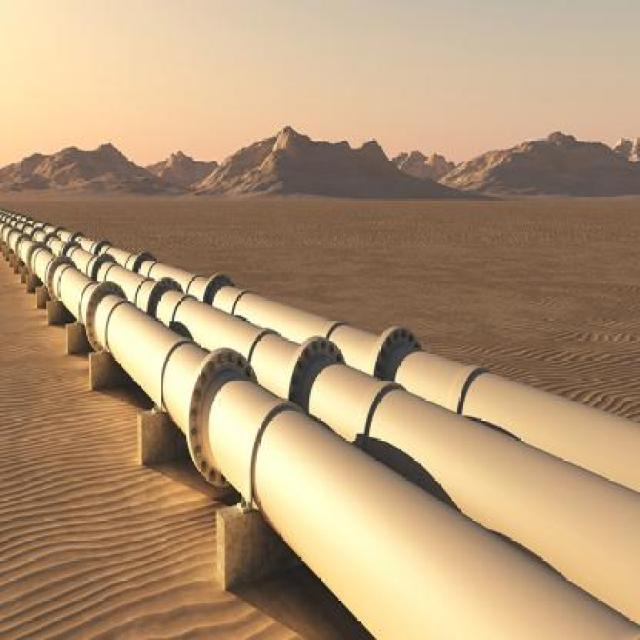gas: (1, 219, 640, 640), (6, 218, 640, 623), (12, 208, 640, 492)
